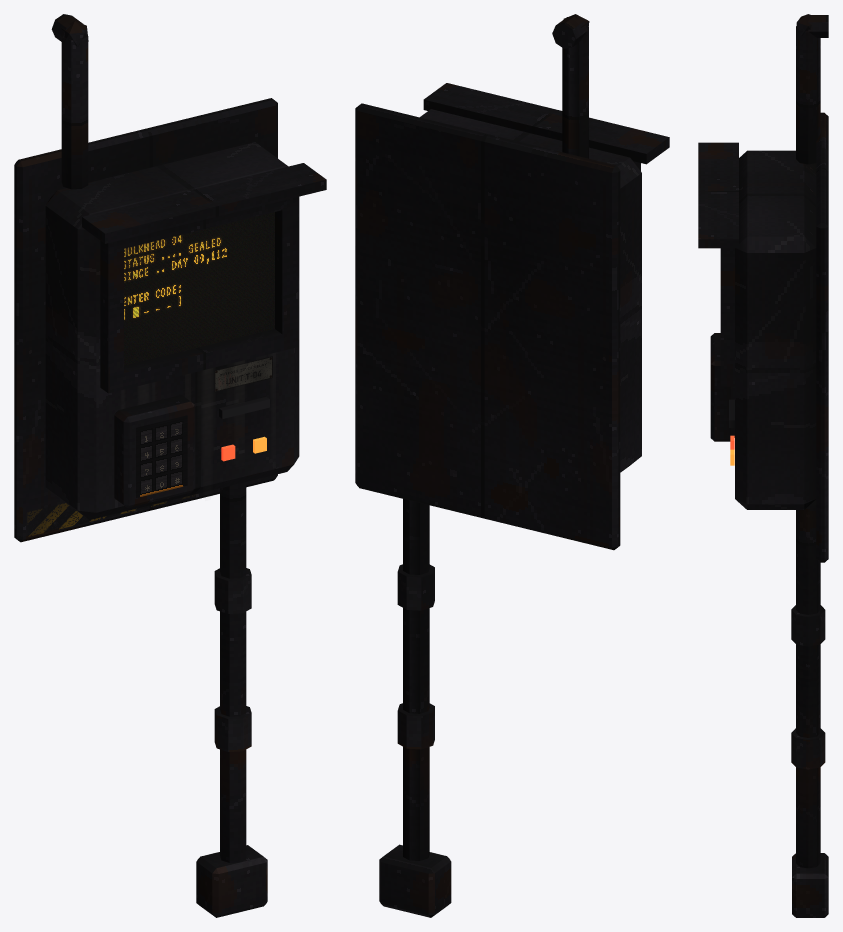
File: terminal_wall.glb
The picture shows the model from 3 angles, left to right: view 1: azimuth 30°, elevation 25°; view 2: azimuth 150°, elevation 25°; view 3: azimuth 270°, elevation 25°; orthographic projection. The views are drawn at different scales.
Parts seen in each view (by area): view 1: body, screens, panels, decals; view 2: body; view 3: body.
Boxes of the visible parts, bbox=[...] form: body: bbox=[14, 14, 326, 917]; screens: bbox=[124, 212, 274, 365]; panels: bbox=[136, 415, 187, 497]; decals: bbox=[27, 356, 272, 536]; body: bbox=[355, 14, 669, 917]; body: bbox=[698, 14, 828, 917].
Size of what is drawn, in the model's own units: 0.66 by 2.23 by 0.32.
11 materials, 8 textured.
